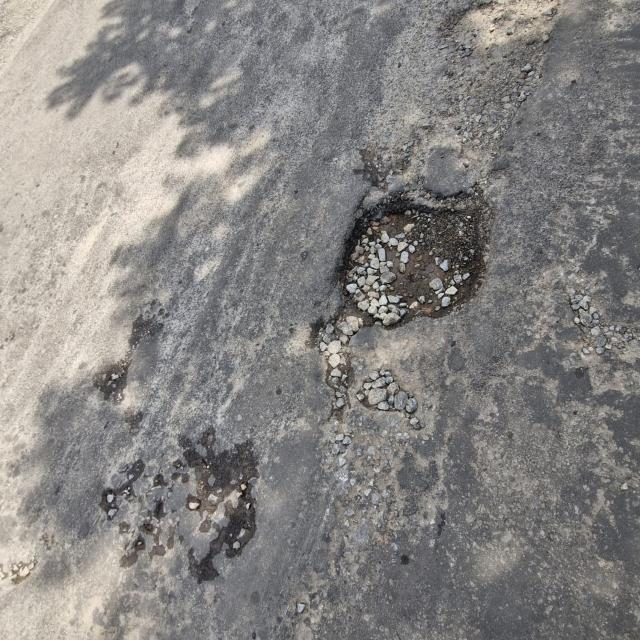pothole: (298, 131, 498, 427), (79, 435, 272, 581), (408, 0, 584, 76), (83, 304, 178, 420)
